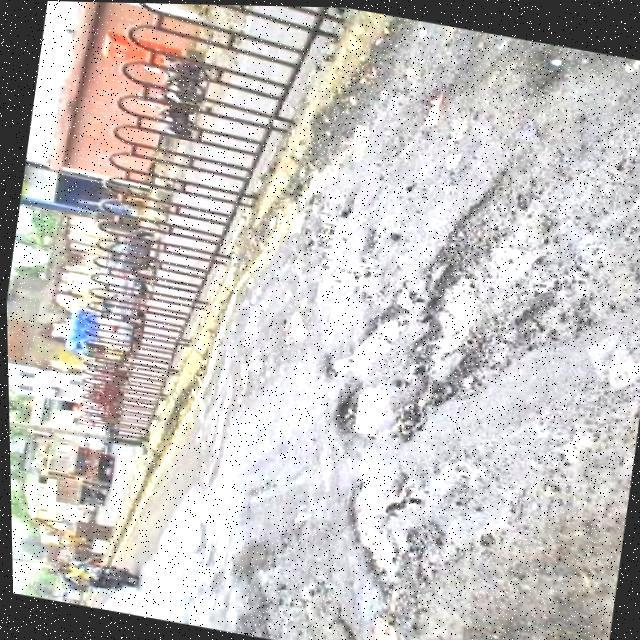pothole: (308, 272, 427, 392), (400, 257, 490, 383), (326, 475, 418, 589), (322, 372, 394, 442)
